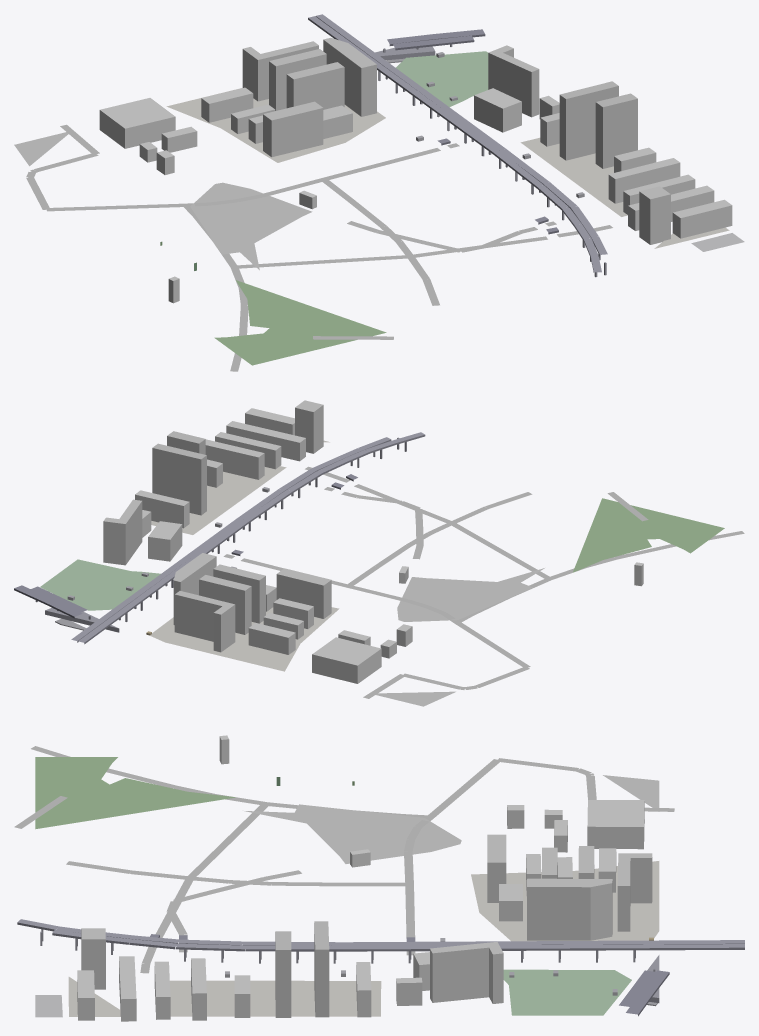
3 renders of one model, top to bottom at view 1: azimuth 30°, elevation 25°; view 2: azimuth 150°, elevation 25°; view 3: azimuth 270°, elevation 25°, orthographic. The views are drawn at different scales.
Bounding box in the file's own units: 535 × 70.01 × 586.
